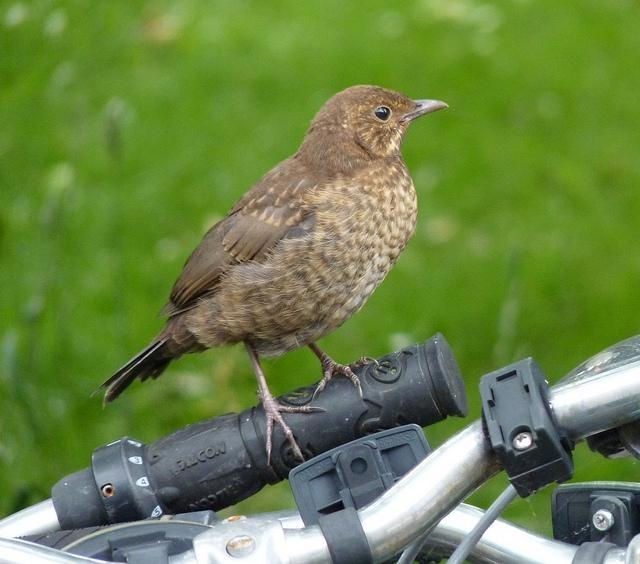bicycle: (0, 331, 466, 542)
